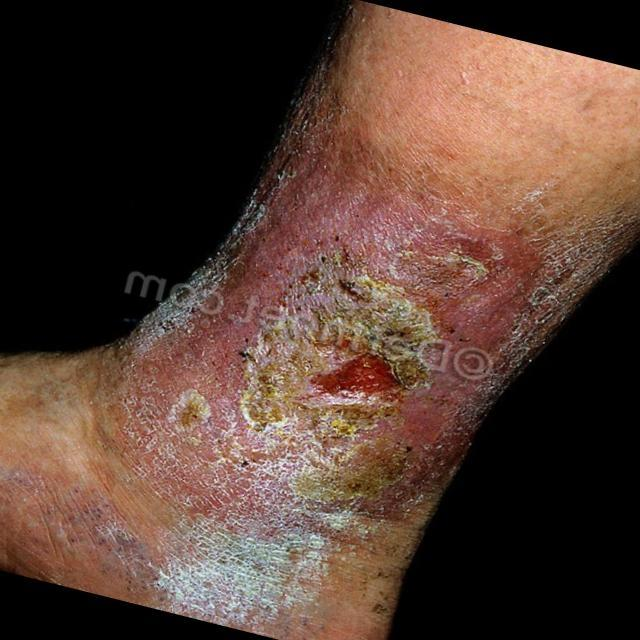Eczema: (134, 188, 514, 579)
